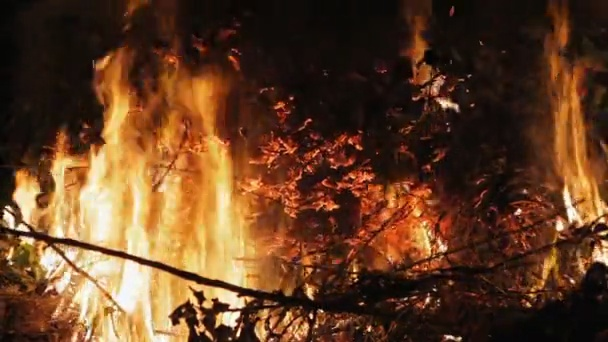fire: (4, 82, 240, 342), (542, 12, 608, 260), (363, 184, 435, 264), (412, 20, 430, 94)
